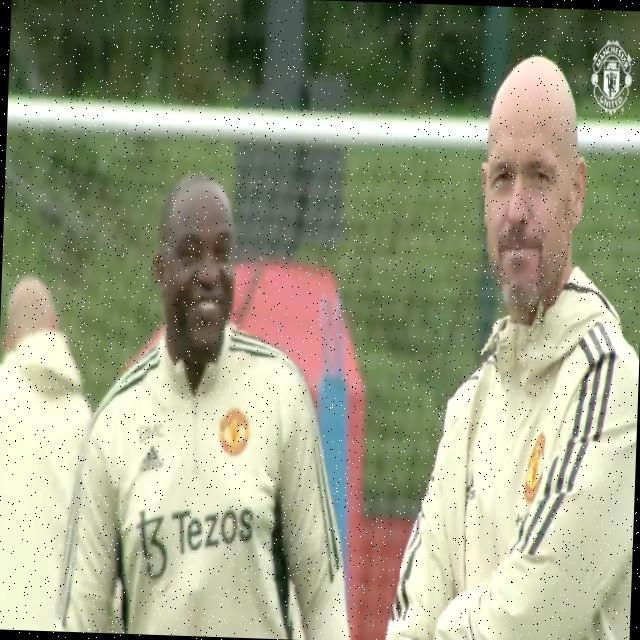Adidas: (140, 443, 164, 472)
